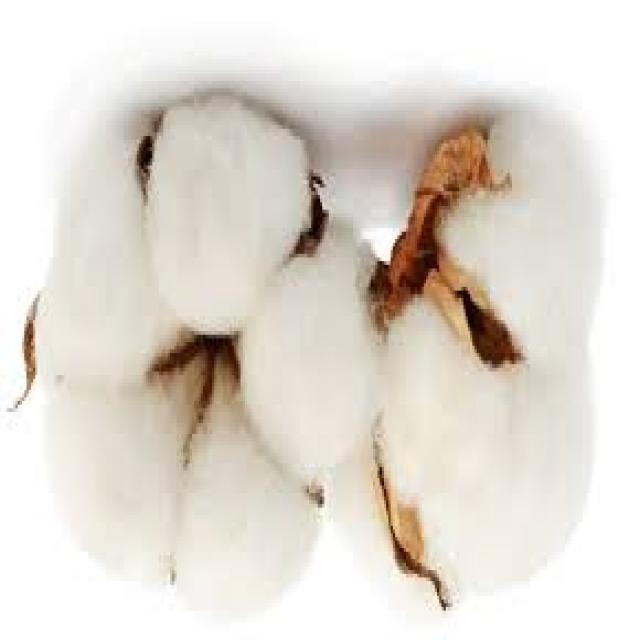Matured Cotton Boll: (16, 93, 376, 626), (322, 111, 610, 623)
